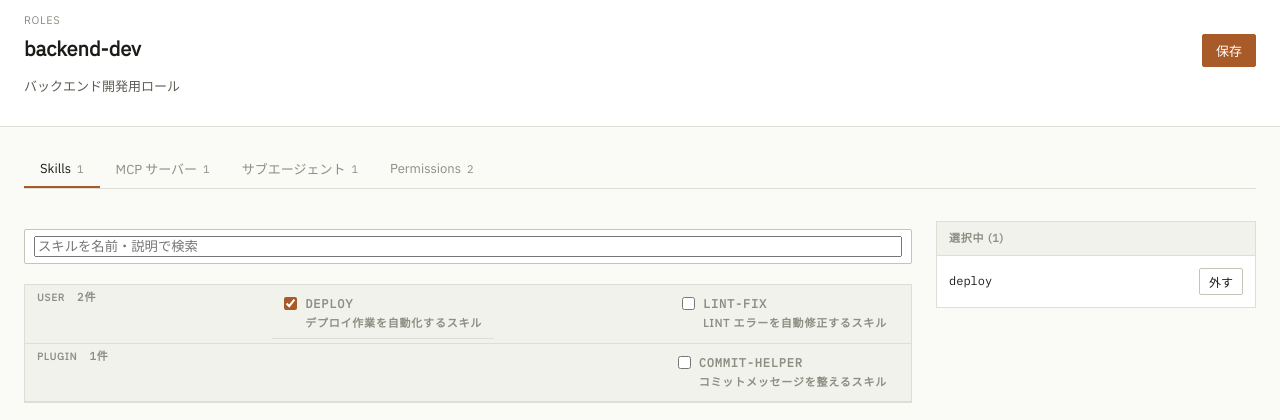
Scenario: RoleEditor › renders a secret_ref env value as a masked pill, not the raw string
Expected: the heading "backend-dev" is shown, [24,35,141,62]
What coordinates should you click on to do the following:
click the tab "MCP サーバー 1"
I would click on:
 (163, 170)
Its box is [100,151,226,188].
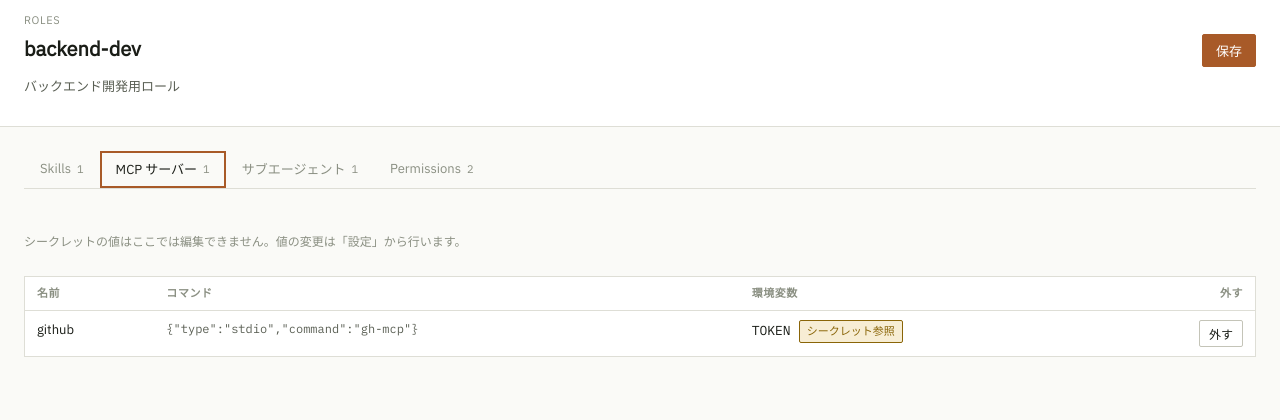
Expected: the text "シークレット参照" is shown, [799,320,903,343]
